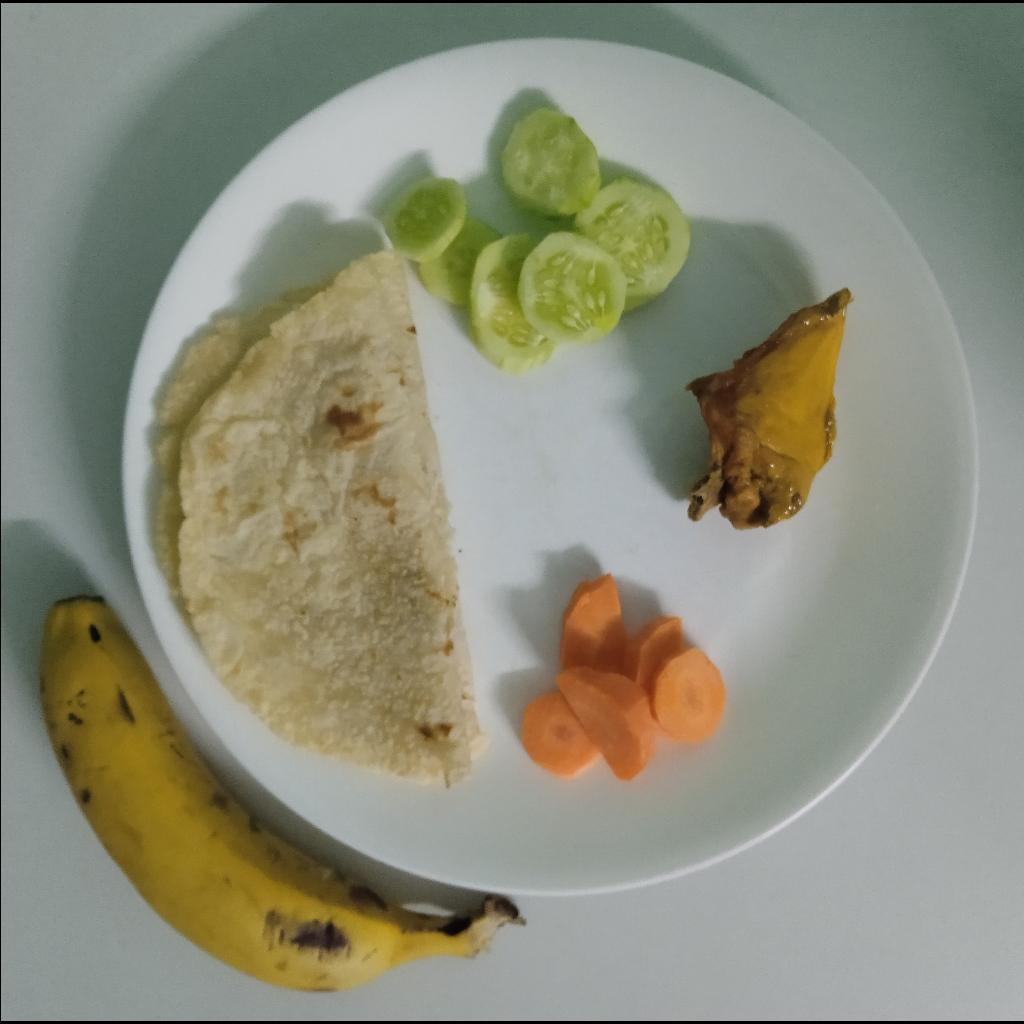banana: (39, 595, 530, 995)
carrot: (519, 576, 727, 782)
chicken: (685, 286, 852, 533)
cucumber: (382, 107, 692, 377)
ruti: (157, 252, 492, 790)
